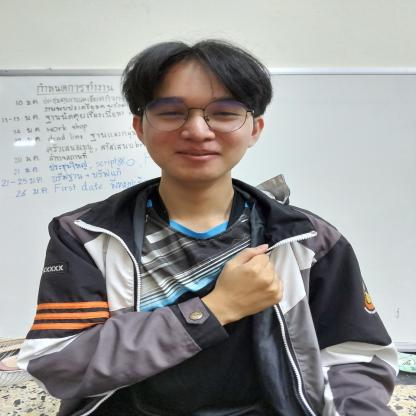Sad: (190, 242, 298, 326)
